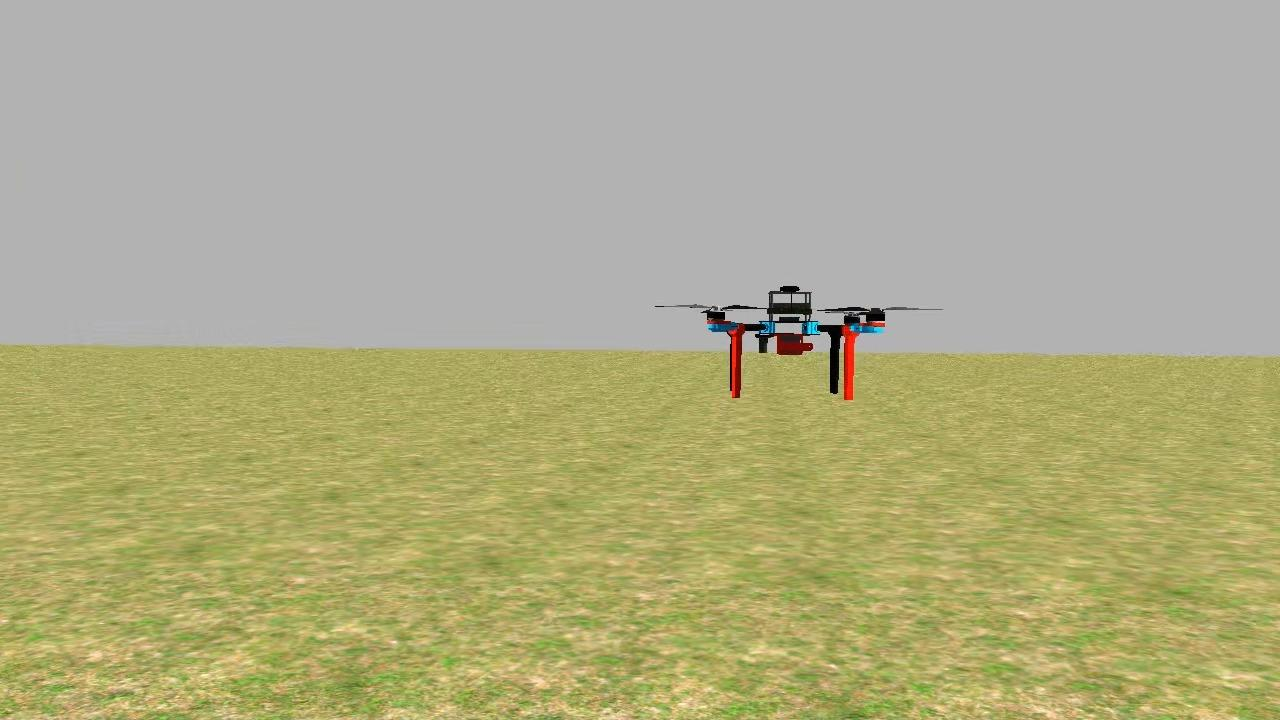UAV: (685, 271, 898, 409)
